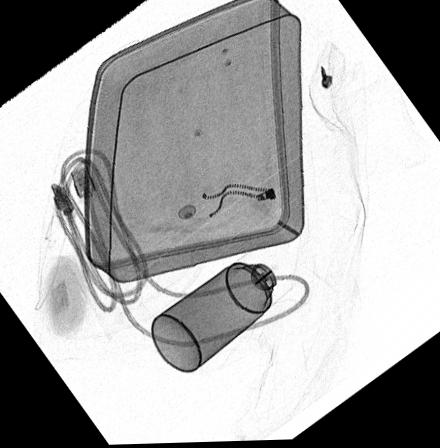Sprayer: (149, 240, 295, 372)
